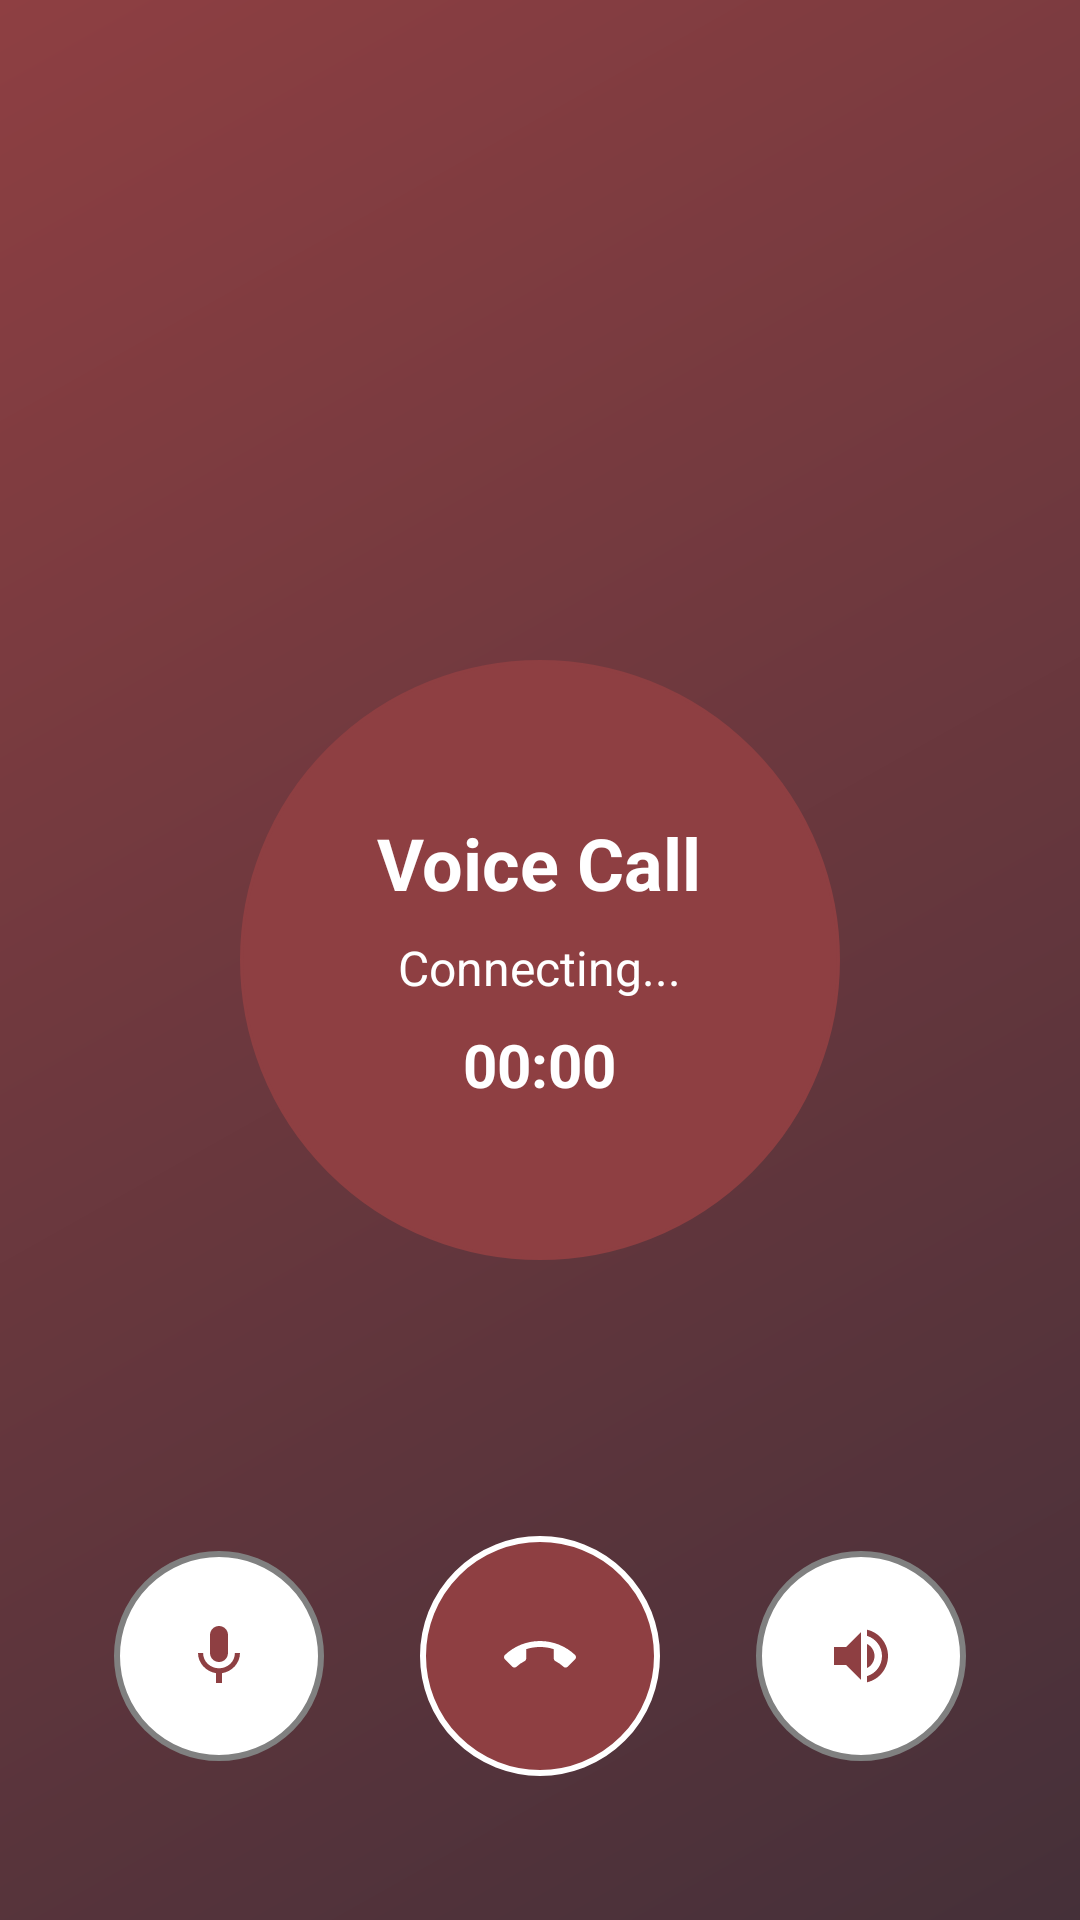

Icons on this 1080px x 1920px Android screen, each with the point to tap as (x=x, y=y):
End Call: (x=540, y=1656)
Mute: (x=219, y=1656)
Speaker: (x=861, y=1656)
